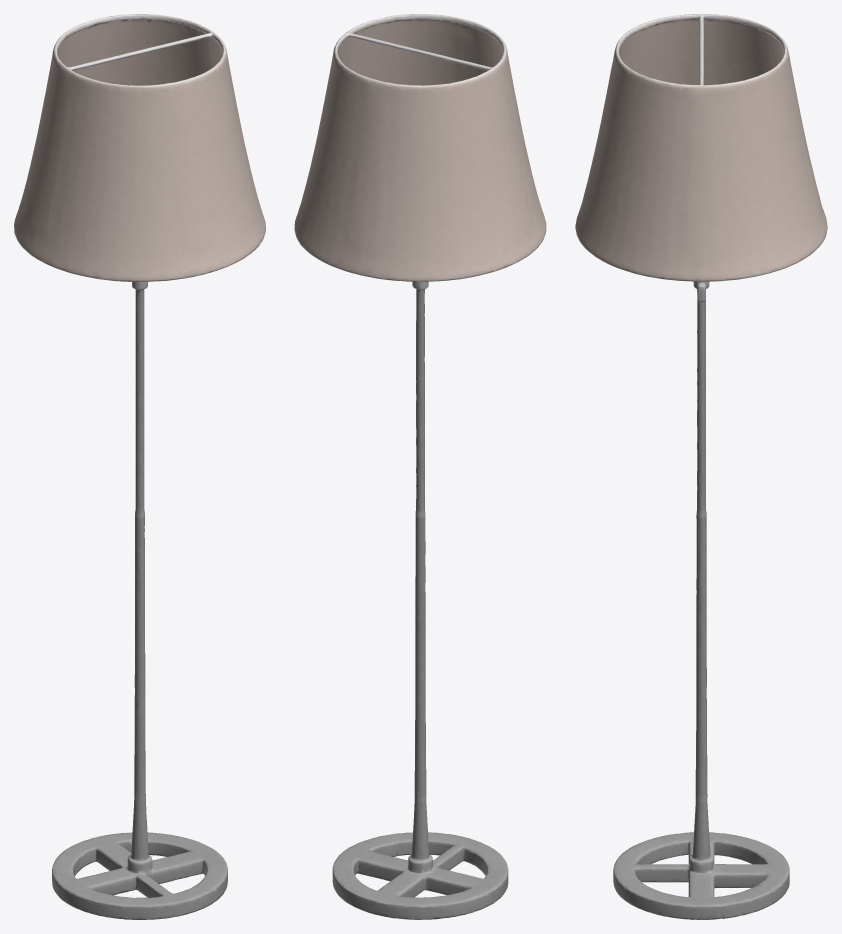
3 views of the same model, side by side, from view 1: azimuth 30°, elevation 25°; view 2: azimuth 150°, elevation 25°; view 3: azimuth 270°, elevation 25° (orthographic).
Parts seen in each view (by area): view 1: world; view 2: world; view 3: world.
Part boxes in pixels (left/top/right/bottom): world: left=14, top=14, right=265, bottom=919; world: left=294, top=14, right=546, bottom=919; world: left=575, top=14, right=827, bottom=919.
Size of the model in its own units: 0.2748 by 1 by 0.2747.
1 material, 1 textured.
